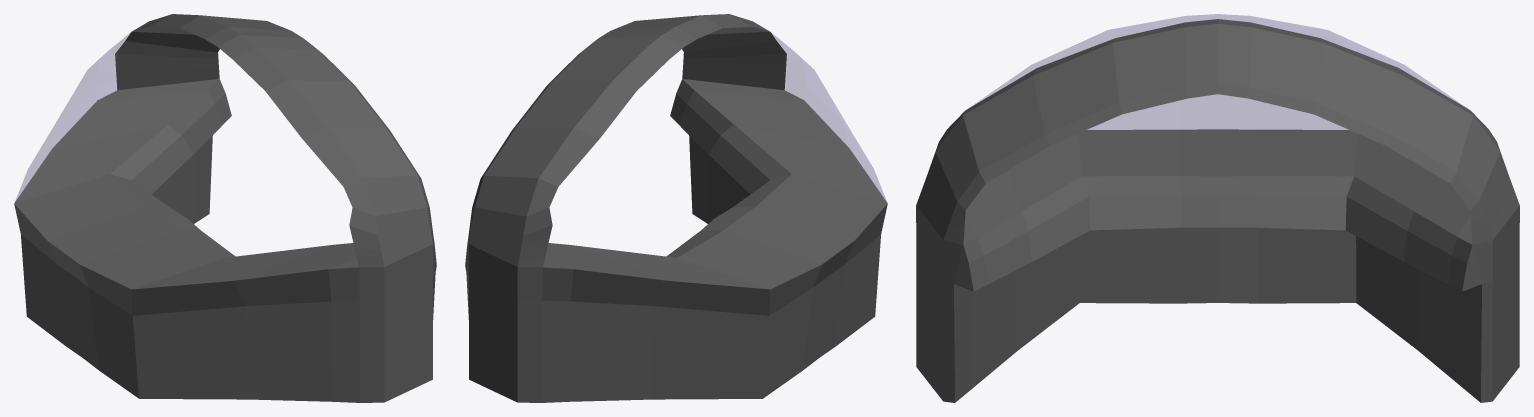
The model's file is InsideSub_1 1.fbx.
3 views of the same model, side by side, from view 1: azimuth 30°, elevation 25°; view 2: azimuth 150°, elevation 25°; view 3: azimuth 270°, elevation 25° (orthographic). The views are drawn at different scales.
Visible parts, largest first — view 1: Cube; view 2: Cube; view 3: Cube.
Boxes of the visible parts, box(x1,y1,x2,y2) form: Cube: box(14, 14, 436, 402); Cube: box(465, 14, 887, 402); Cube: box(916, 14, 1519, 402).
Bounding box in the file's own units: 139 × 140 × 225.
